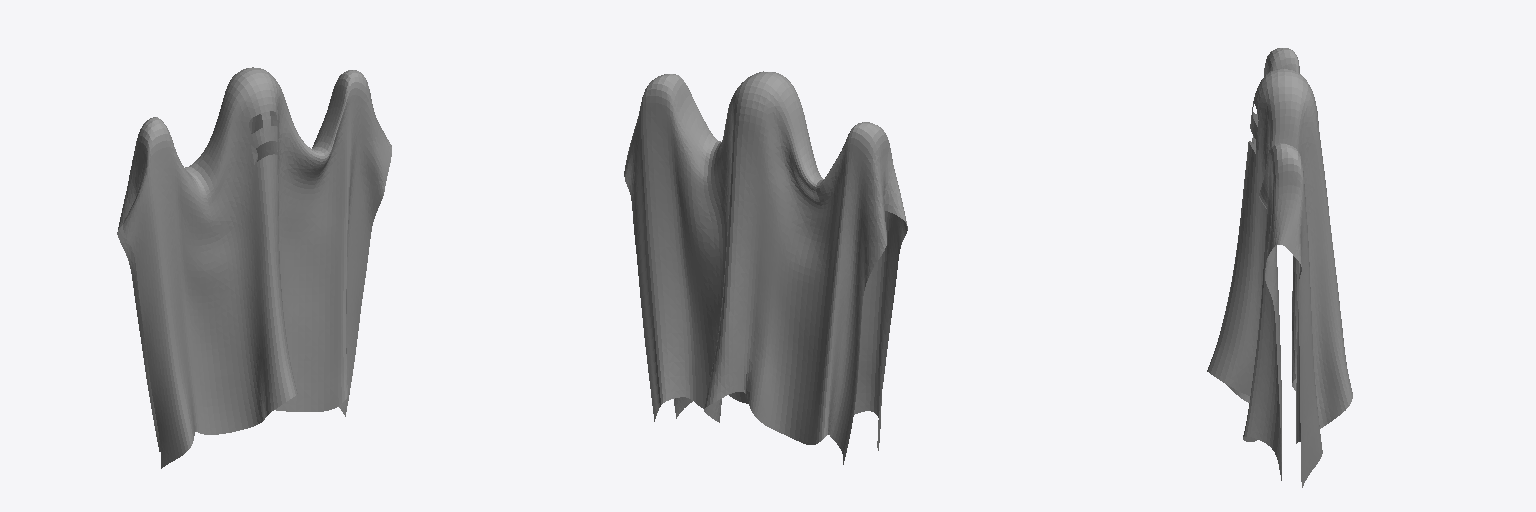
The model's file is ghostbackup.obj.
3 views of the same model, side by side, from view 1: azimuth 30°, elevation 25°; view 2: azimuth 150°, elevation 25°; view 3: azimuth 270°, elevation 25° (orthographic).
Visible parts, largest first — view 1: Ghost_Grid.002; view 2: Ghost_Grid.002; view 3: Ghost_Grid.002.
Part boxes in pixels (bbox=[...]): Ghost_Grid.002: bbox=[117, 67, 391, 468]; Ghost_Grid.002: bbox=[624, 71, 907, 464]; Ghost_Grid.002: bbox=[1207, 48, 1352, 487].
Bounding box in the file's own units: 0.881 × 1.14 × 0.4093.